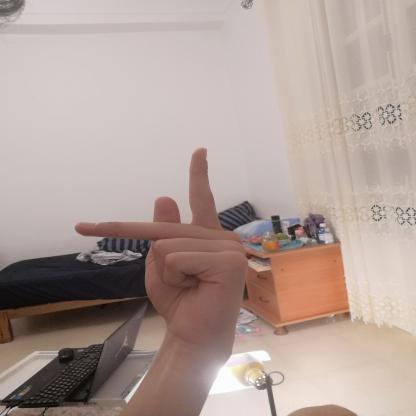DHAA: (61, 134, 259, 360)
